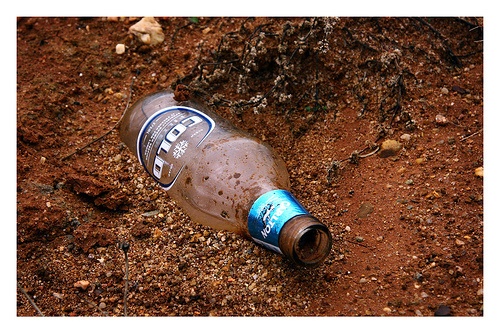litter: (116, 87, 334, 266)
